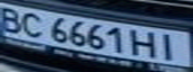1: (106, 25, 130, 54)
6: (45, 15, 72, 44), (84, 21, 106, 52), (66, 19, 90, 47)
B: (0, 4, 27, 34)
C: (18, 10, 48, 38)
H: (130, 28, 163, 58)
I: (154, 32, 187, 62)
